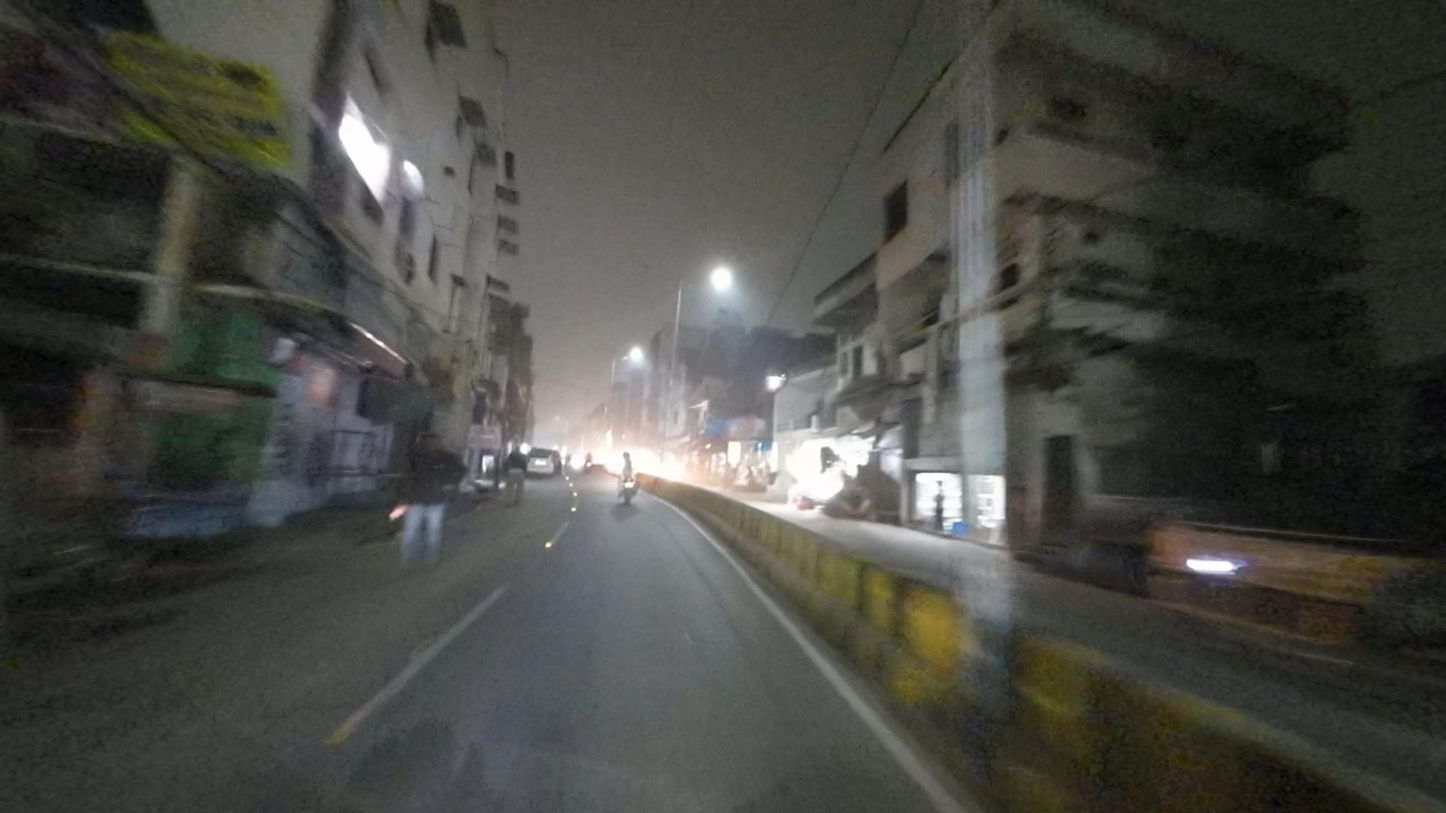streetlight: (639, 260, 675, 278)
